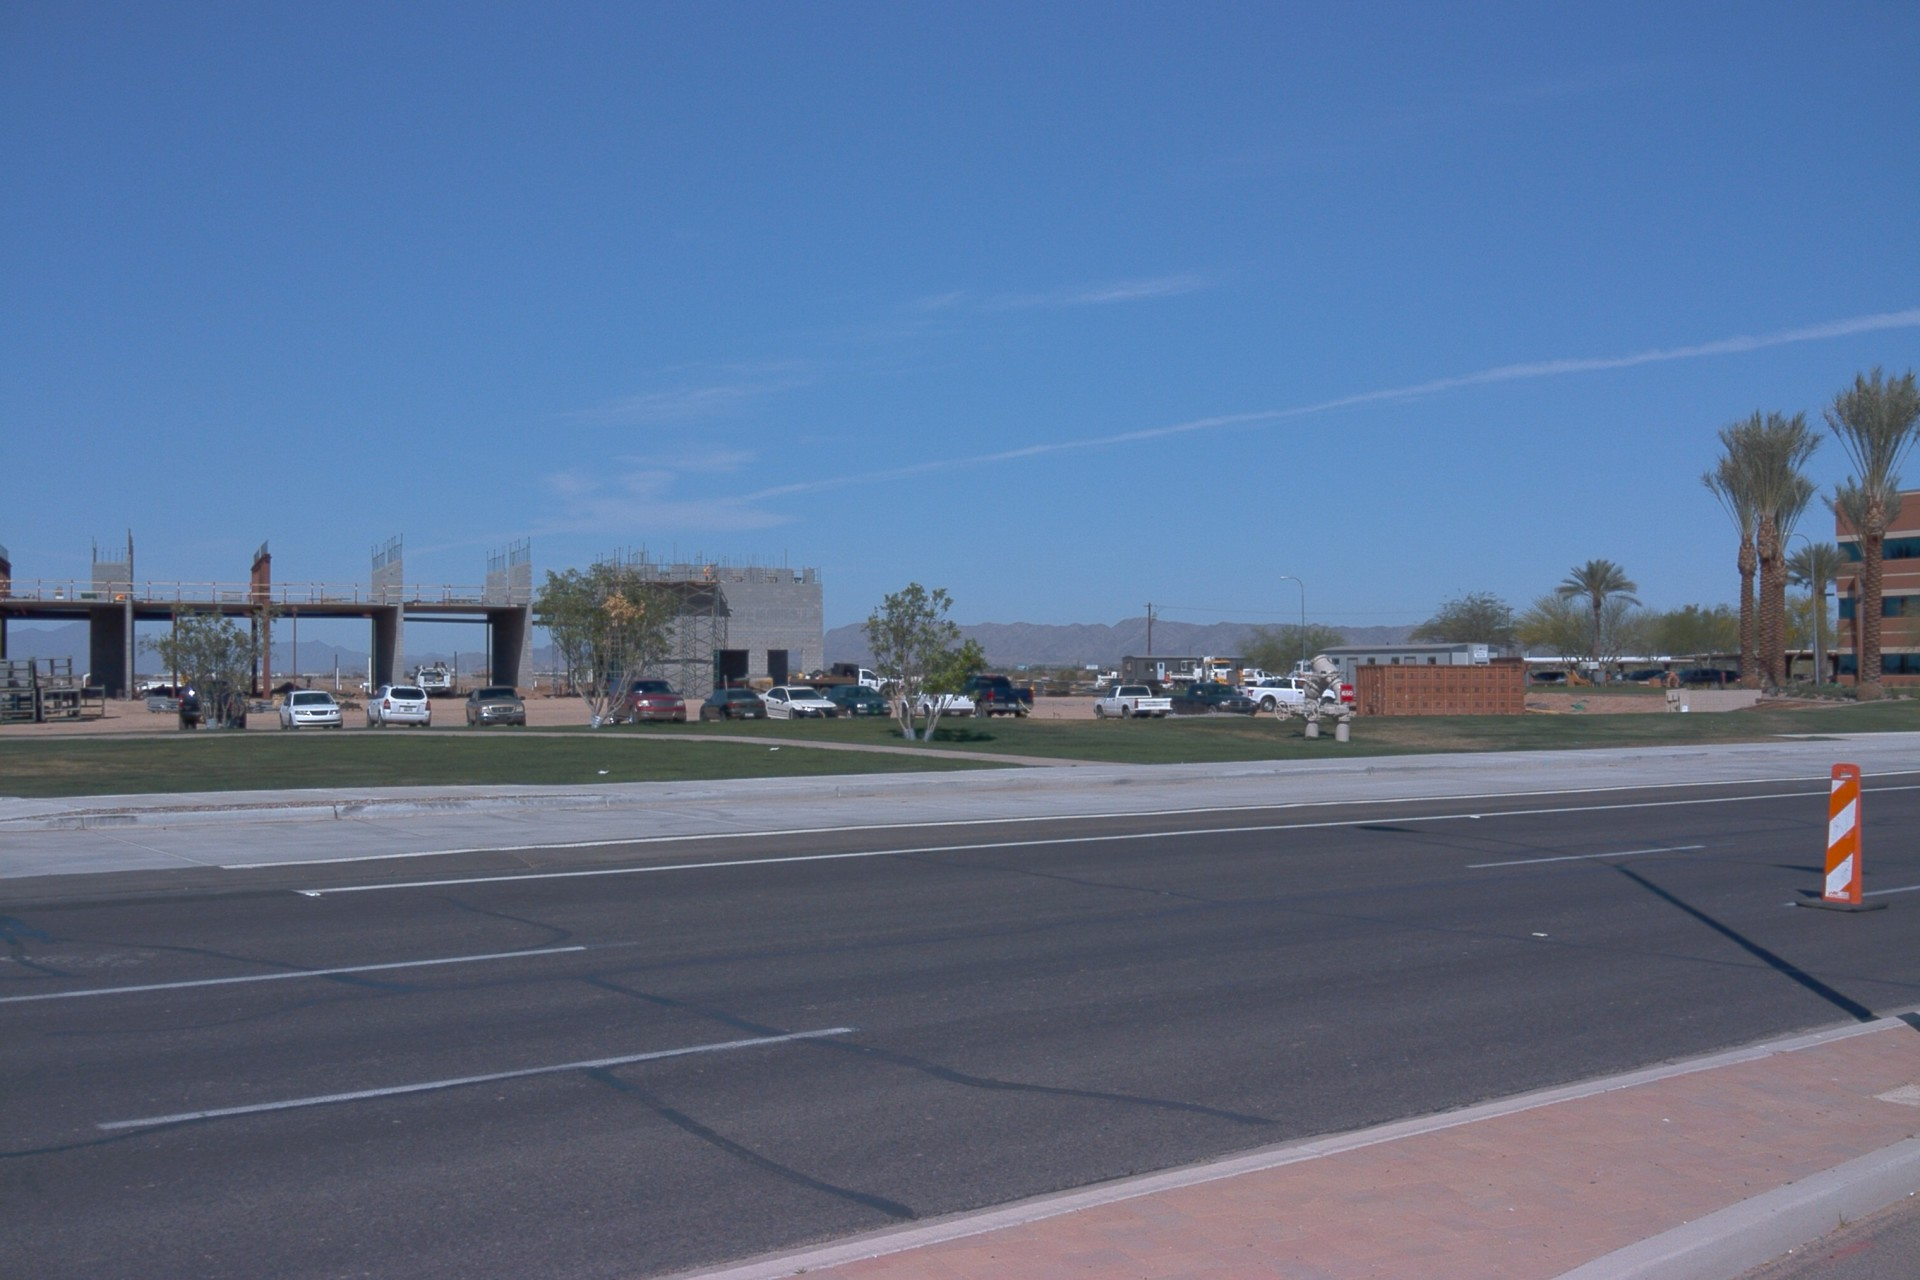TYPE_PEDESTRIAN: (1614, 668, 1625, 681), (1164, 670, 1172, 684), (1605, 668, 1613, 681)
TYPE_VEHICLE: (791, 662, 903, 703), (1233, 677, 1337, 718), (178, 675, 252, 732), (1156, 678, 1258, 719), (608, 673, 687, 724), (963, 674, 1040, 723), (1092, 677, 1172, 720), (759, 678, 842, 719), (1163, 658, 1246, 699), (365, 681, 432, 731), (901, 679, 978, 722), (463, 681, 530, 730), (278, 688, 343, 734), (701, 684, 768, 726), (824, 678, 890, 719), (172, 665, 232, 699), (415, 664, 457, 700), (1674, 671, 1728, 693), (1529, 673, 1572, 691), (1624, 671, 1670, 685), (1283, 664, 1315, 683), (895, 680, 928, 698), (885, 678, 906, 686), (1525, 676, 1538, 688)
